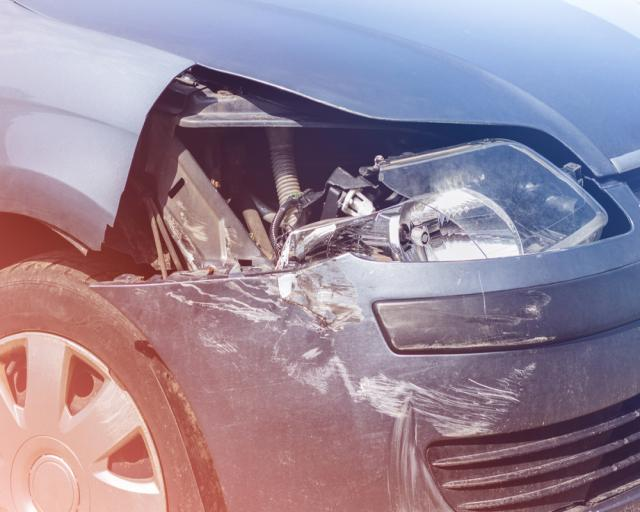lamp broken: (273, 138, 609, 274)
scratch: (164, 262, 552, 512)
